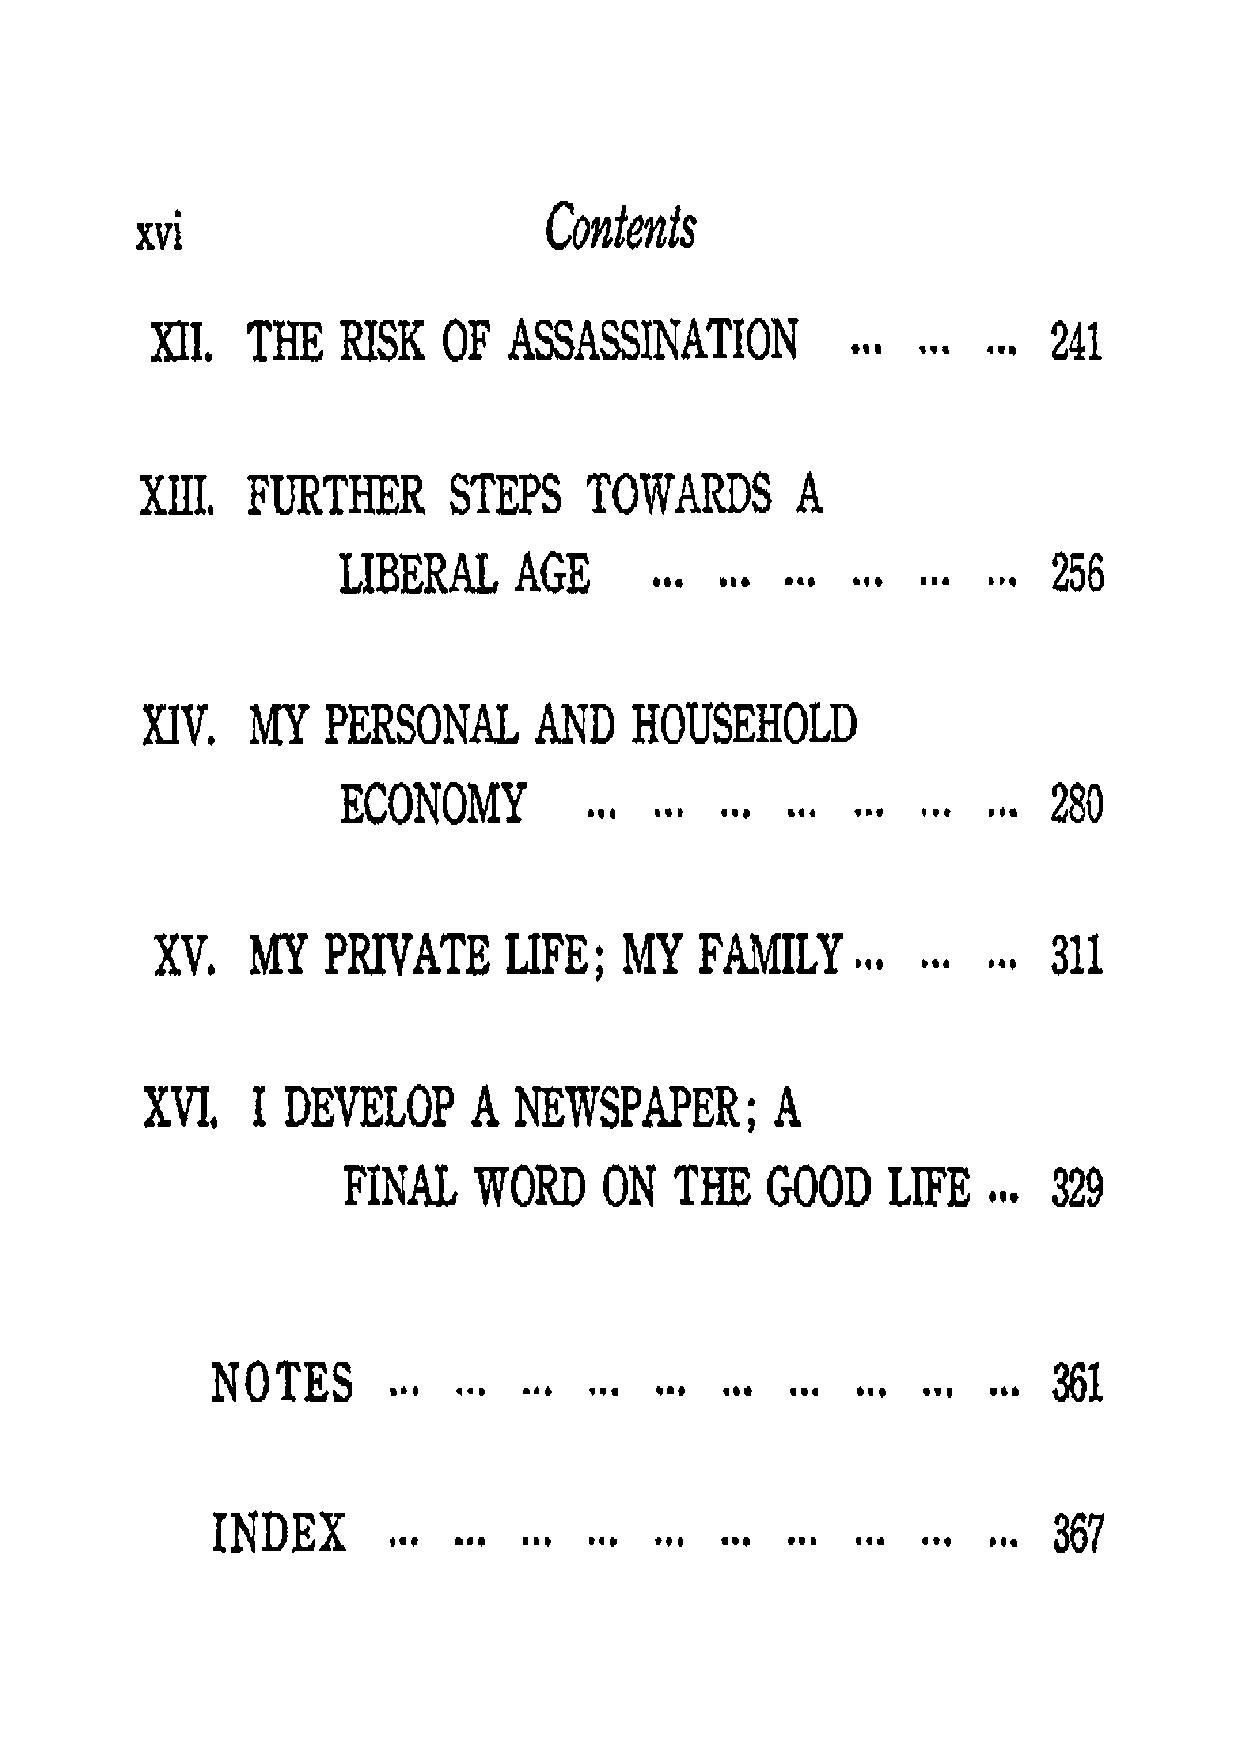TOC_chapter: (134, 1070, 976, 1216), (118, 683, 862, 837), (130, 458, 833, 603), (137, 306, 803, 370), (150, 929, 845, 976), (203, 1500, 352, 1557), (208, 1346, 356, 1400)
TOC_pagenumber: (1043, 311, 1107, 370), (1049, 544, 1111, 599), (1047, 1159, 1106, 1216), (1047, 930, 1106, 984), (1045, 774, 1106, 827), (1049, 1507, 1104, 1561), (1049, 1353, 1104, 1402)
chapter: (521, 176, 715, 268)
